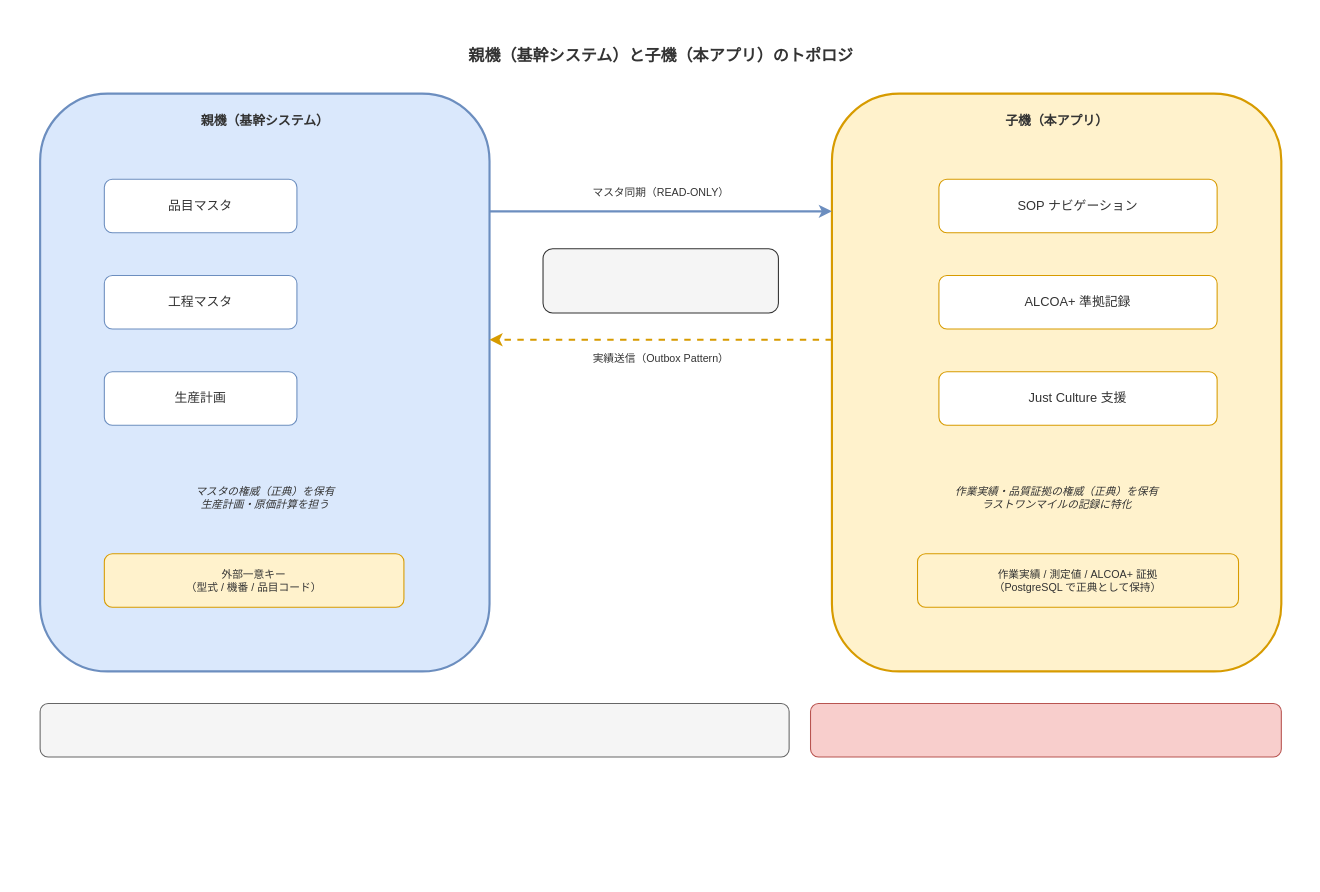
Image size: 1320x892. Some labels were removed from this diagram. The shapes that lost their labels are listed below. From the top down, each one's centre as x and y in pixels, then its label:
point (660, 280): REST API / Webhook （OpenAPI 3.1）
point (414, 729): ▶ 単独動作モード: 基幹システム（親機）が存在しない工場でも本アプリは完全機能する（Offline-First 設計）
point (1045, 729): PLC / OPC-UA 等の OT レイヤ直結は永続非提供 （IT/OT 境界の意図的保護・構想 11 章 §4）
